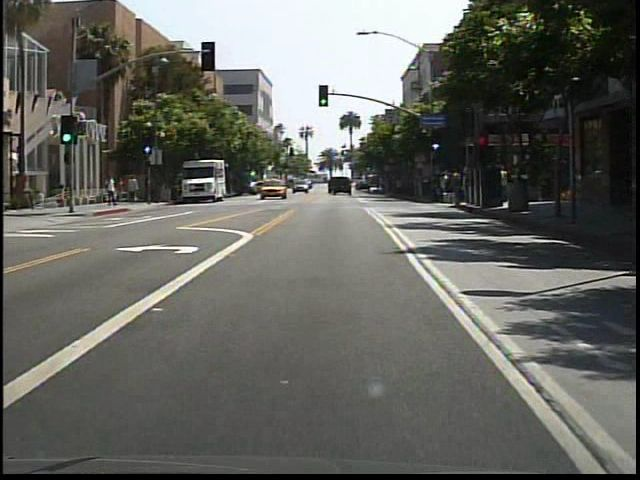person: (128, 173, 143, 205), (106, 173, 119, 208), (54, 184, 70, 205), (117, 176, 129, 203)
